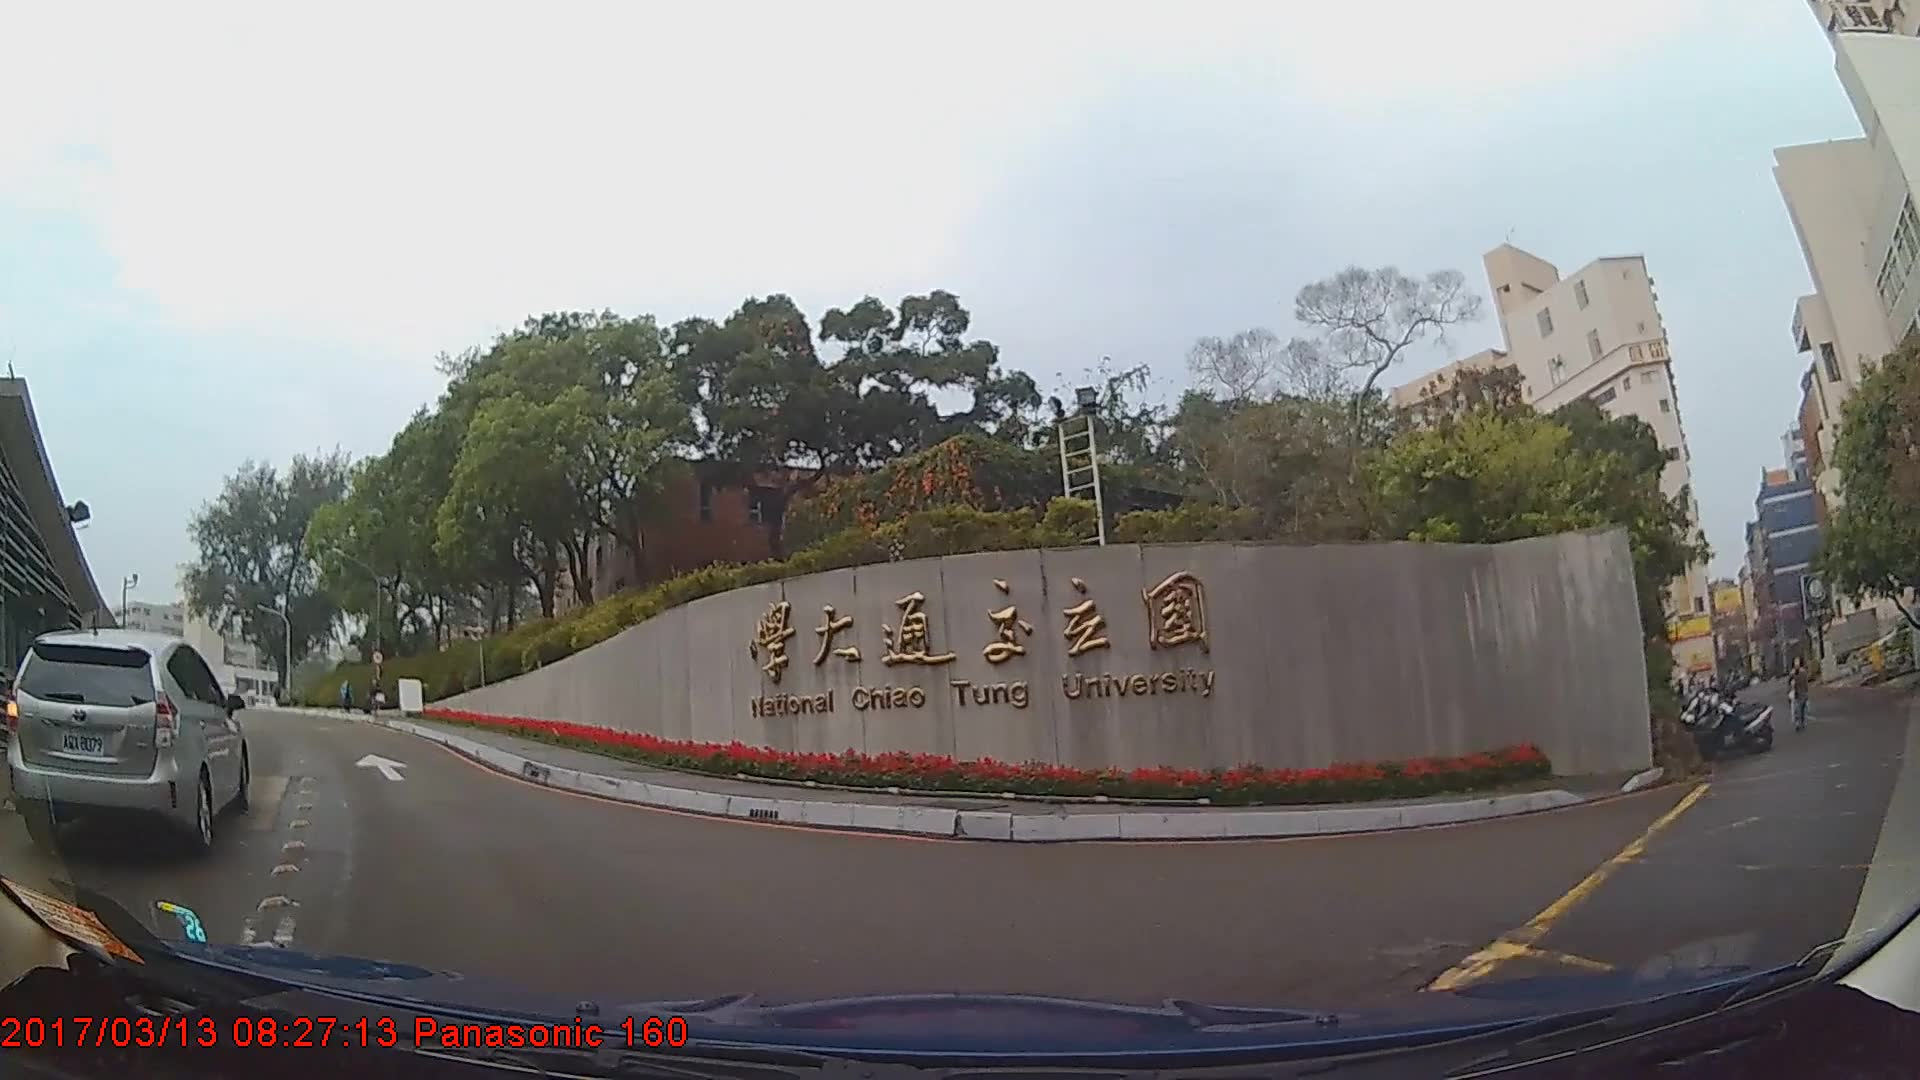pedestrian: (1789, 657, 1812, 732)
vehicle: (9, 625, 250, 855)
